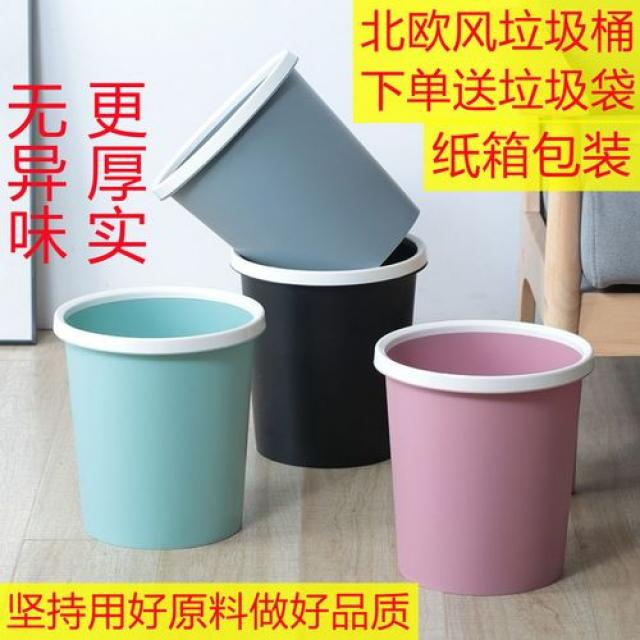Dustbin: (371, 317, 598, 598), (147, 47, 424, 270), (49, 281, 271, 553), (224, 227, 431, 471)
